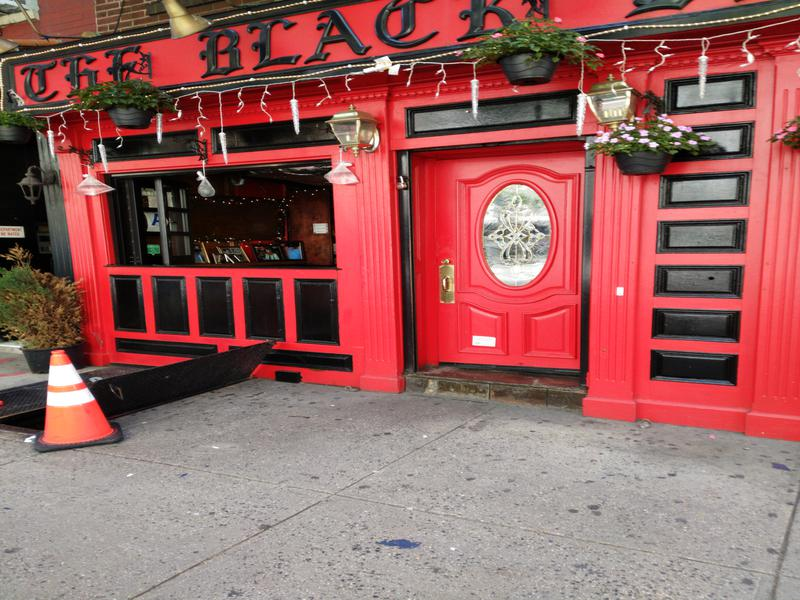door: (412, 150, 586, 382)
